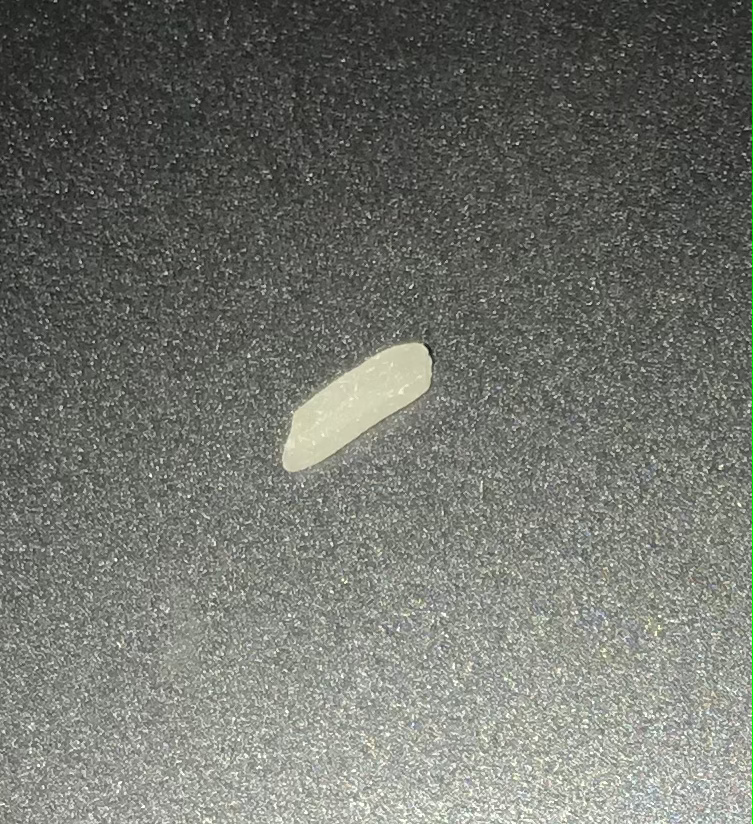Gao Tam Thom: (266, 333, 459, 469)
